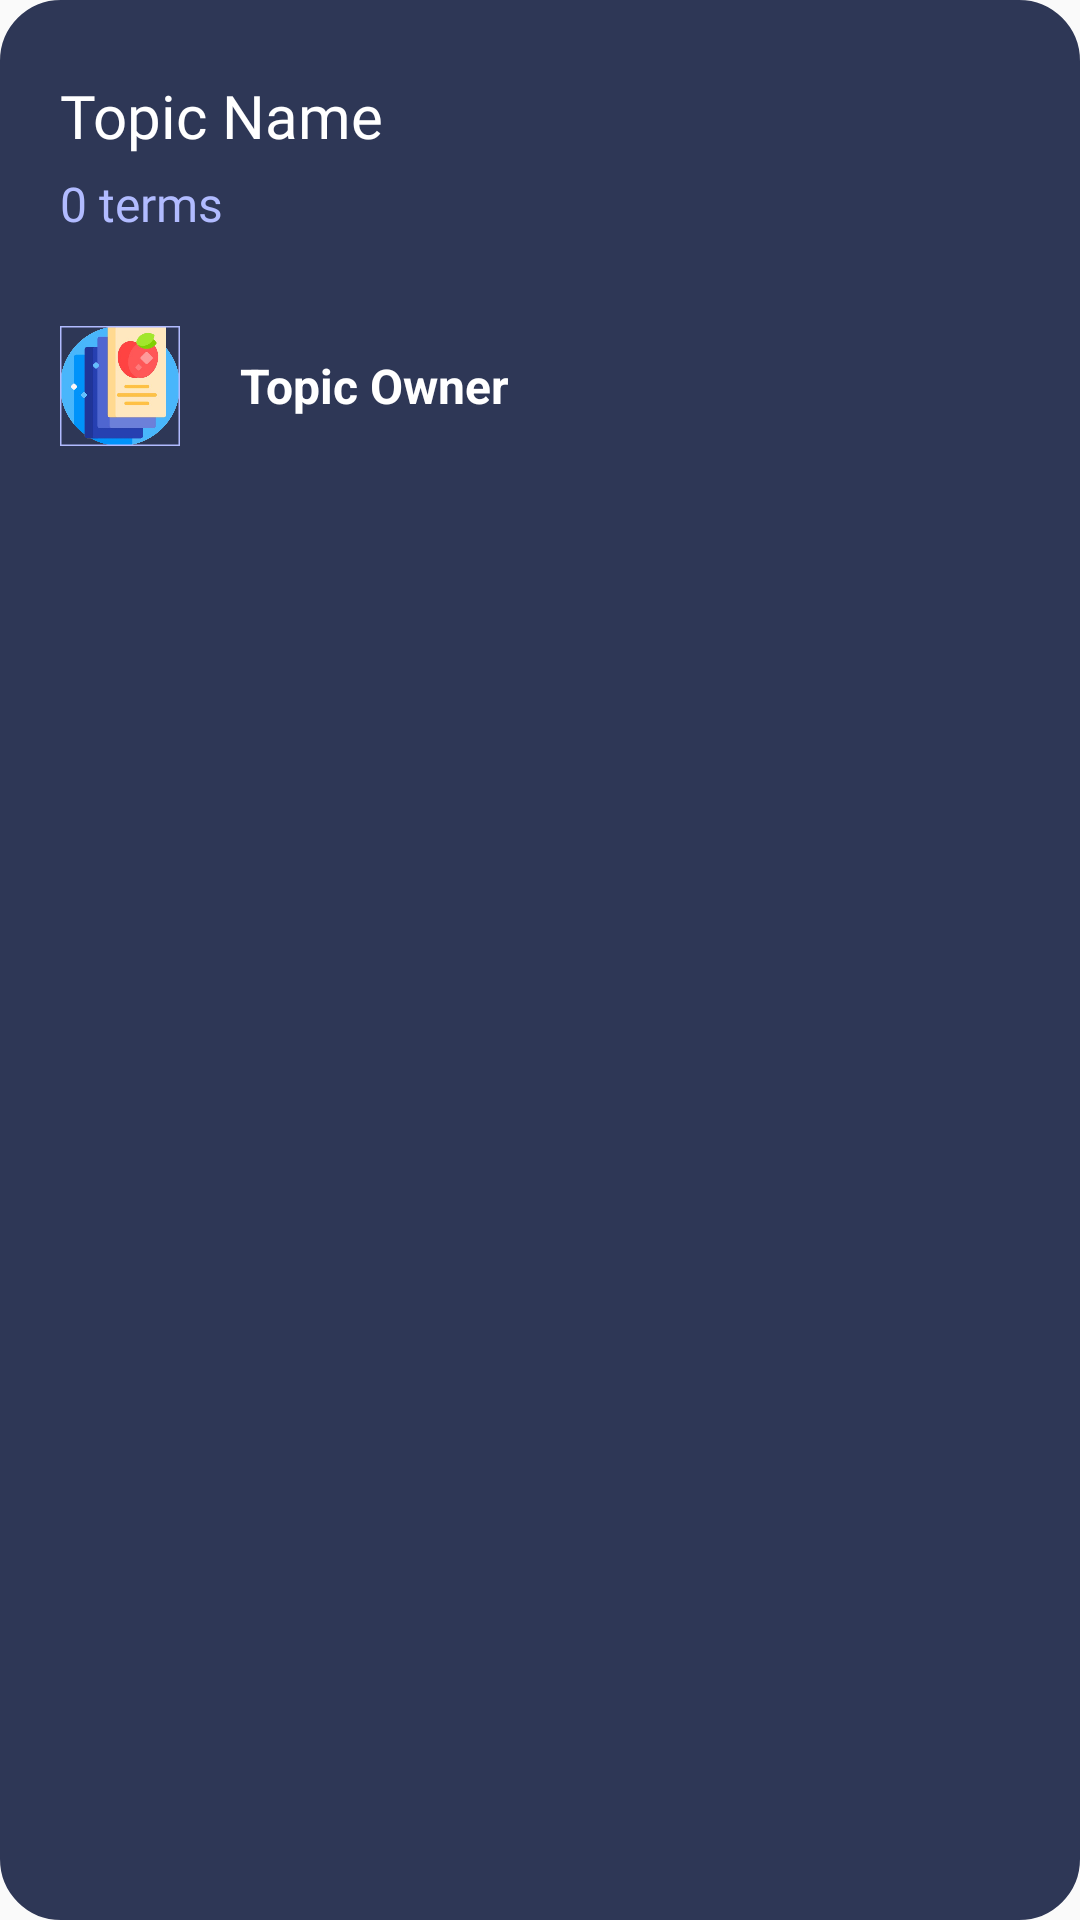

Icons on this 1080w x 1920h Android screen, each with the point to tap as [x,y]:
flashcard: [120,386]
